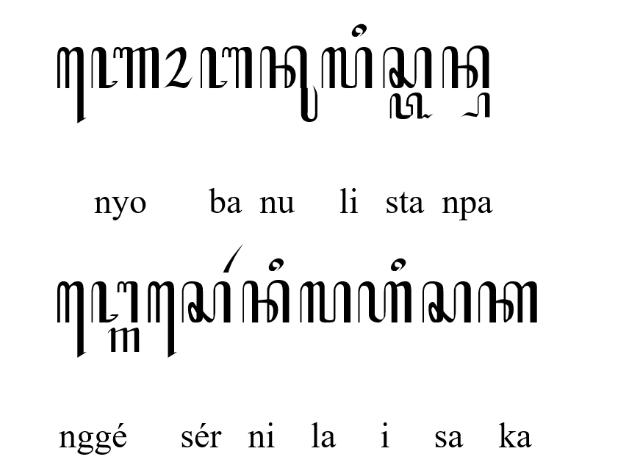_p: (460, 92, 492, 118)
_r1: (222, 242, 244, 272)
_t: (389, 92, 433, 120)
b: (198, 46, 254, 90)
e1: (146, 280, 178, 360), (56, 279, 86, 358), (56, 46, 86, 124)
g: (108, 328, 140, 354)
h: (357, 280, 413, 323)
i: (351, 23, 367, 39), (266, 257, 284, 271), (390, 257, 406, 271)
k: (477, 281, 539, 325)
l: (321, 47, 373, 91), (299, 281, 351, 325)
n: (442, 45, 491, 89), (242, 280, 290, 324)
nga: (90, 280, 140, 323)
nu: (259, 45, 319, 123)
ny1: (89, 46, 159, 90)
o: (164, 46, 192, 88)
s: (181, 279, 233, 324), (381, 45, 433, 89), (421, 280, 471, 324)
